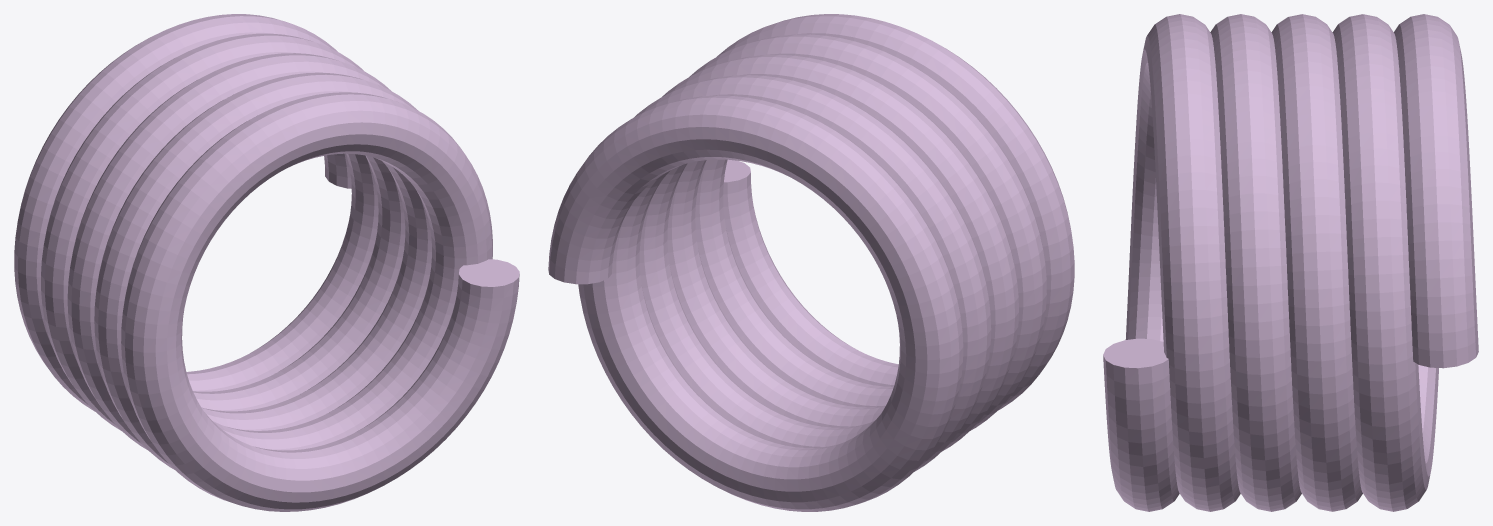
File: helix_tube_demo.glb
3 views of the same model, side by side, from view 1: azimuth 30°, elevation 25°; view 2: azimuth 150°, elevation 25°; view 3: azimuth 270°, elevation 25° (orthographic). The views are drawn at different scales.
Parts seen in each view (by area): view 1: helical_tube; view 2: helical_tube; view 3: helical_tube.
Part boxes in pixels (bbox=[...]): helical_tube: bbox=[14, 14, 519, 511]; helical_tube: bbox=[548, 14, 1074, 511]; helical_tube: bbox=[1103, 14, 1478, 511].
Bounding box in the file's own units: 16.3 × 16.3 × 12.3.
